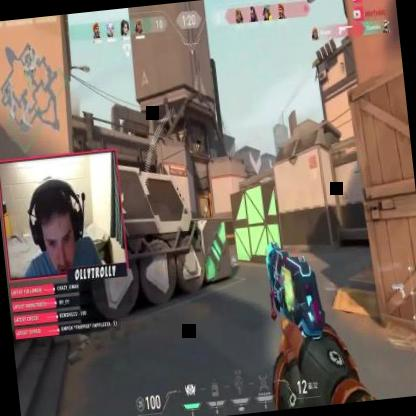enemy: (202, 204, 210, 220)
enemy_head: (204, 204, 206, 208)
